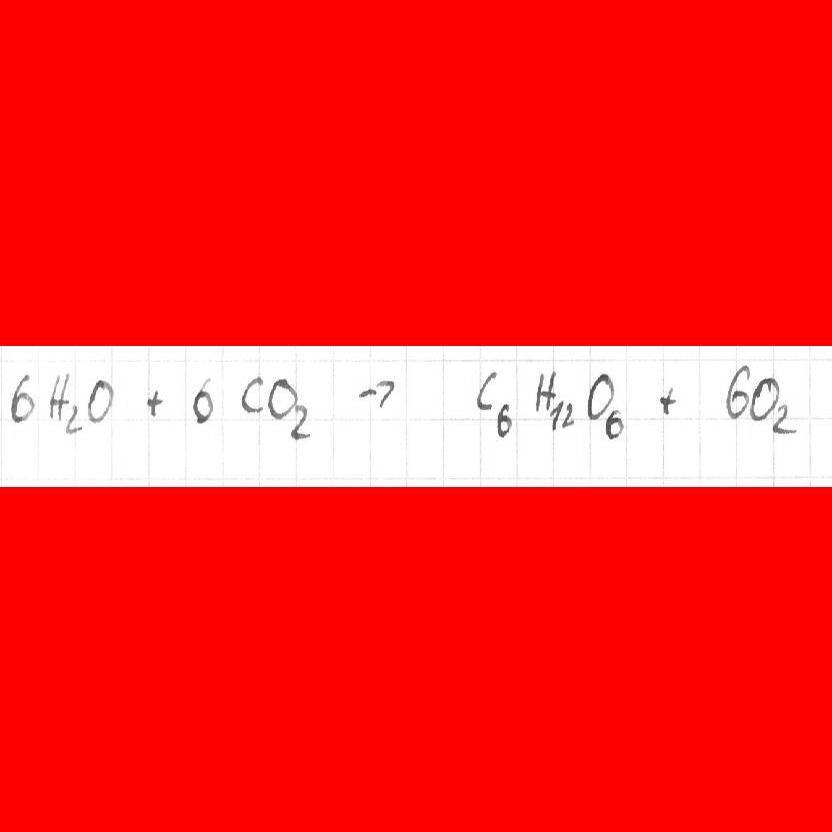Char: (722, 362, 752, 421), (9, 371, 37, 424), (586, 370, 615, 421), (354, 375, 396, 410), (267, 375, 300, 419), (85, 378, 115, 425), (748, 376, 779, 421), (191, 375, 216, 425), (46, 370, 70, 420), (472, 368, 498, 413), (533, 368, 559, 412), (239, 374, 266, 416), (287, 402, 313, 442), (770, 401, 798, 435), (495, 402, 515, 440), (604, 406, 623, 440), (657, 384, 676, 417), (63, 402, 81, 435), (145, 387, 163, 418), (547, 399, 564, 430), (558, 400, 571, 429)
